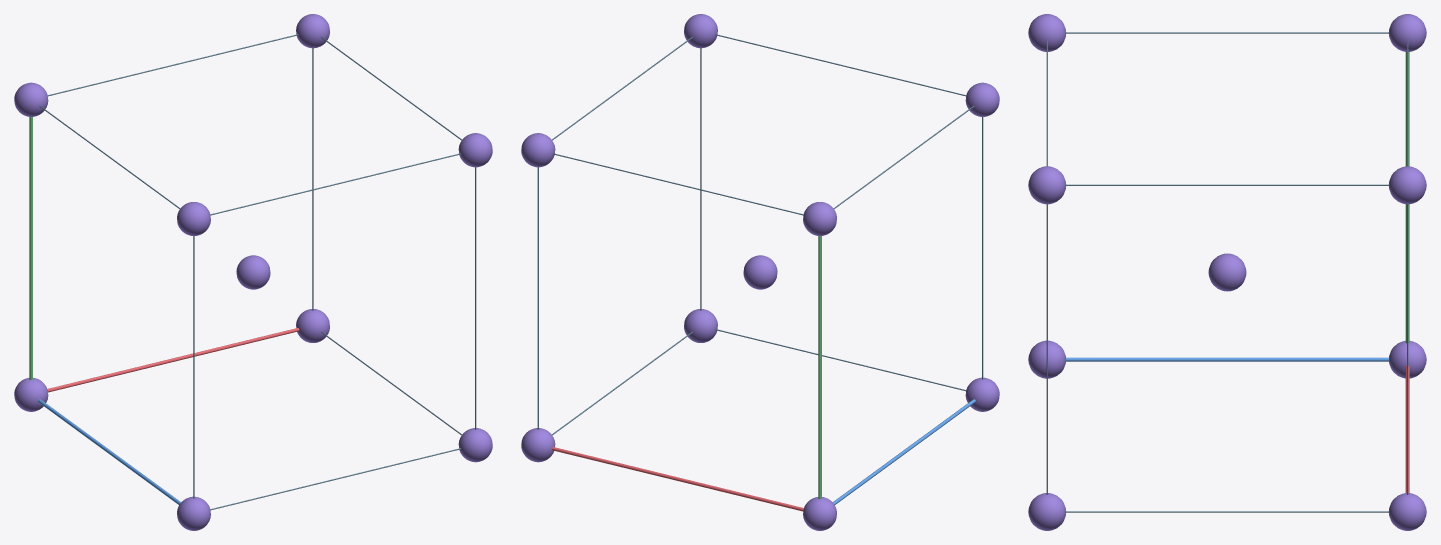
The model's file is nguyen-to-cs.glb.
3 views of the same model, side by side, from view 1: azimuth 30°, elevation 25°; view 2: azimuth 150°, elevation 25°; view 3: azimuth 270°, elevation 25° (orthographic). The views are drawn at different scales.
Visible parts, largest first — view 1: Cs · Cs · 1 (×9), Ô mạng và các trục a, b, c; view 2: Cs · Cs · 1 (×9), Ô mạng và các trục a, b, c; view 3: Cs · Cs · 1 (×9), Ô mạng và các trục a, b, c.
Boxes of the visible parts, x1,y1,x2,y2 form: Cs · Cs · 1 (×9): [14, 14, 492, 530]; Ô mạng và các trục a, b, c: [29, 34, 476, 510]; Cs · Cs · 1 (×9): [521, 14, 999, 530]; Ô mạng và các trục a, b, c: [537, 34, 983, 511]; Cs · Cs · 1 (×9): [1028, 14, 1426, 530]; Ô mạng và các trục a, b, c: [1046, 32, 1409, 512].
Bounding box in the file's own units: 6.71 × 6.71 × 6.71.
